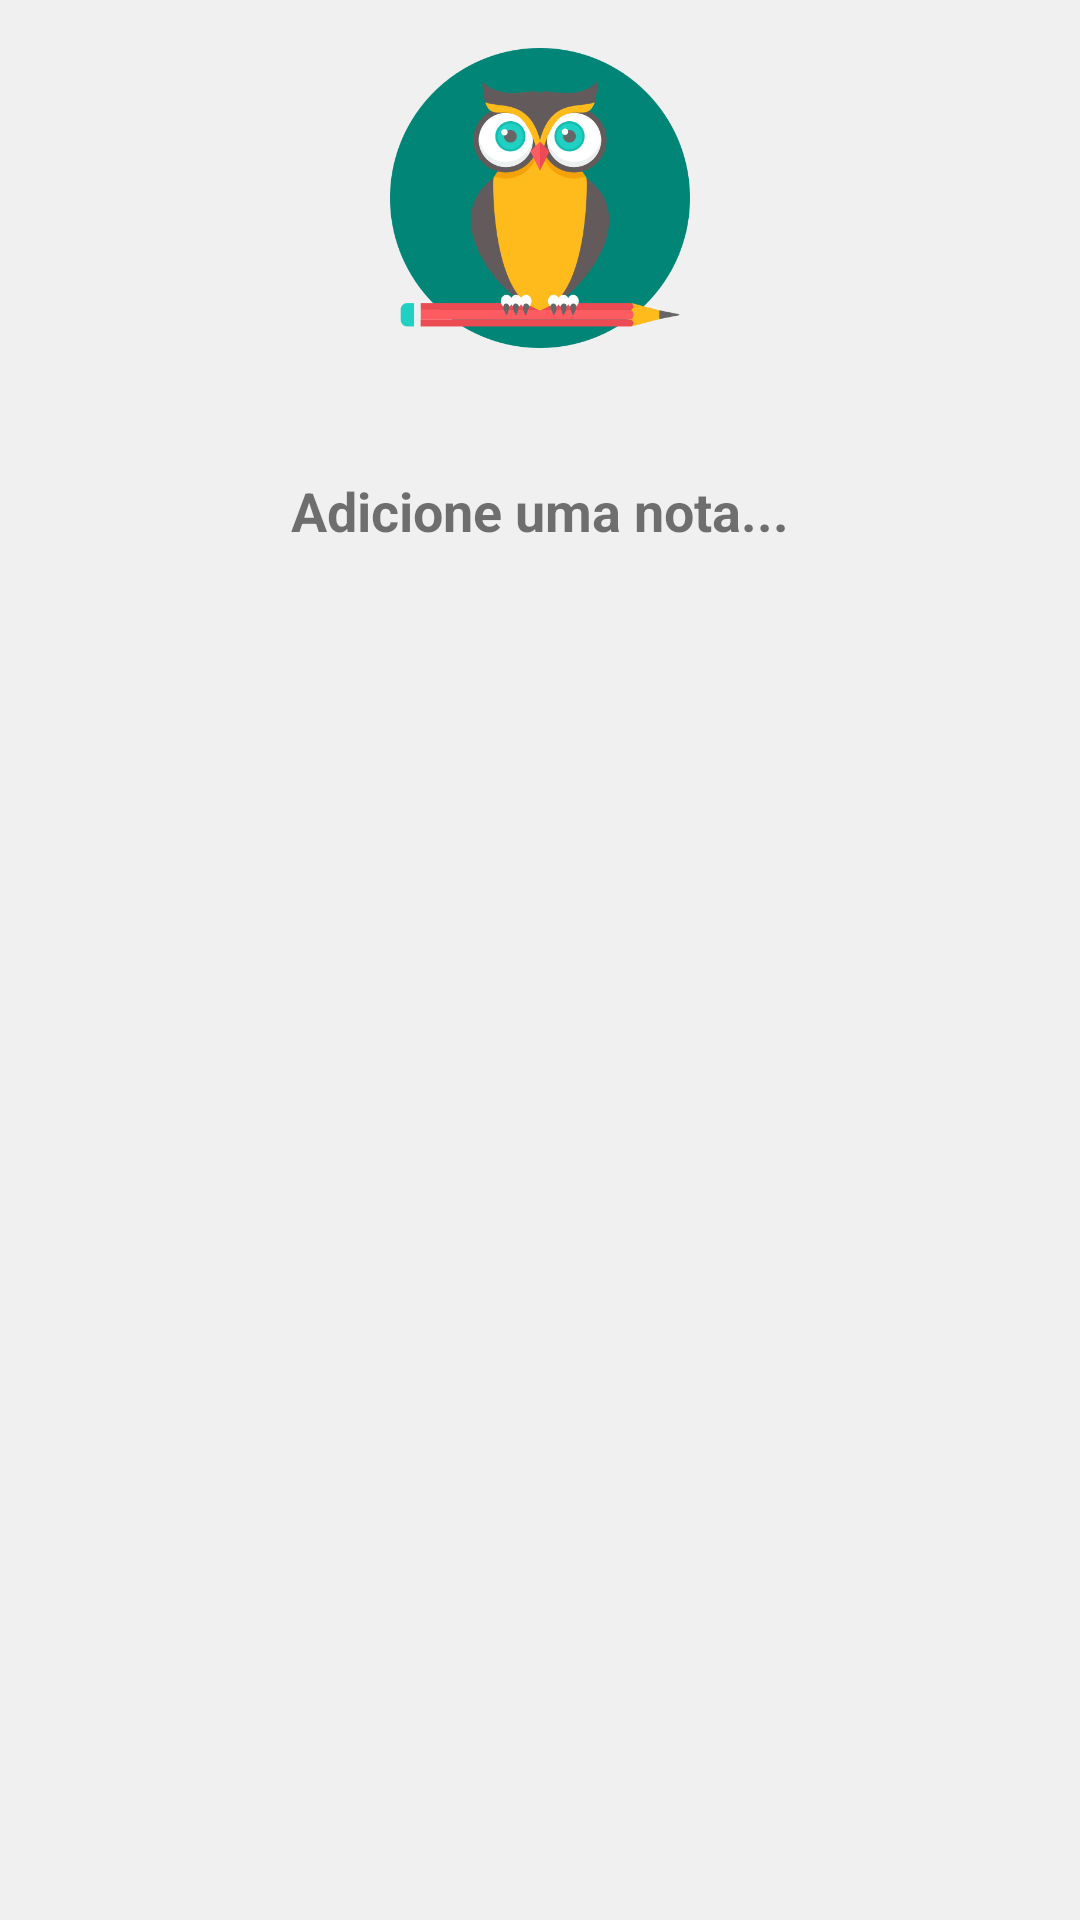

Icons on this 1080 x 1920 Android screen, each with its box as (x1, y1, x2, y2):
view imagem: (390, 48, 690, 348)
